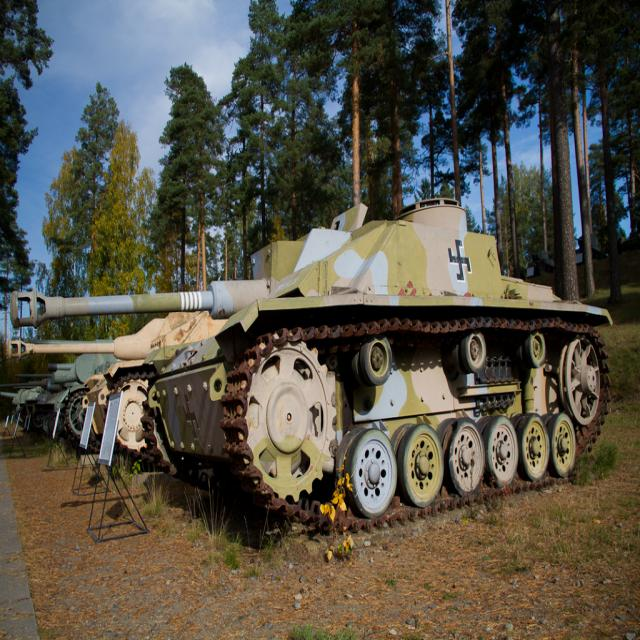tank: (0, 192, 614, 533)
